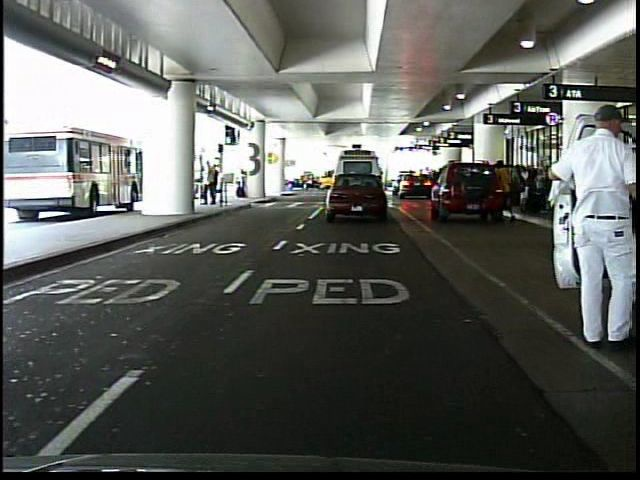person: (540, 99, 638, 355), (583, 149, 612, 224), (498, 157, 518, 223), (202, 155, 219, 209), (236, 166, 253, 202)
